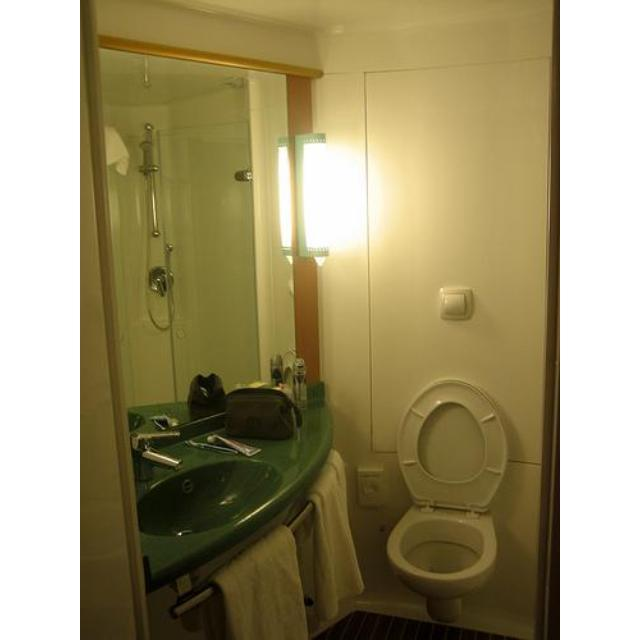toothbrush: (136, 394, 330, 592), (387, 378, 508, 620), (224, 386, 308, 438), (186, 440, 238, 454)
